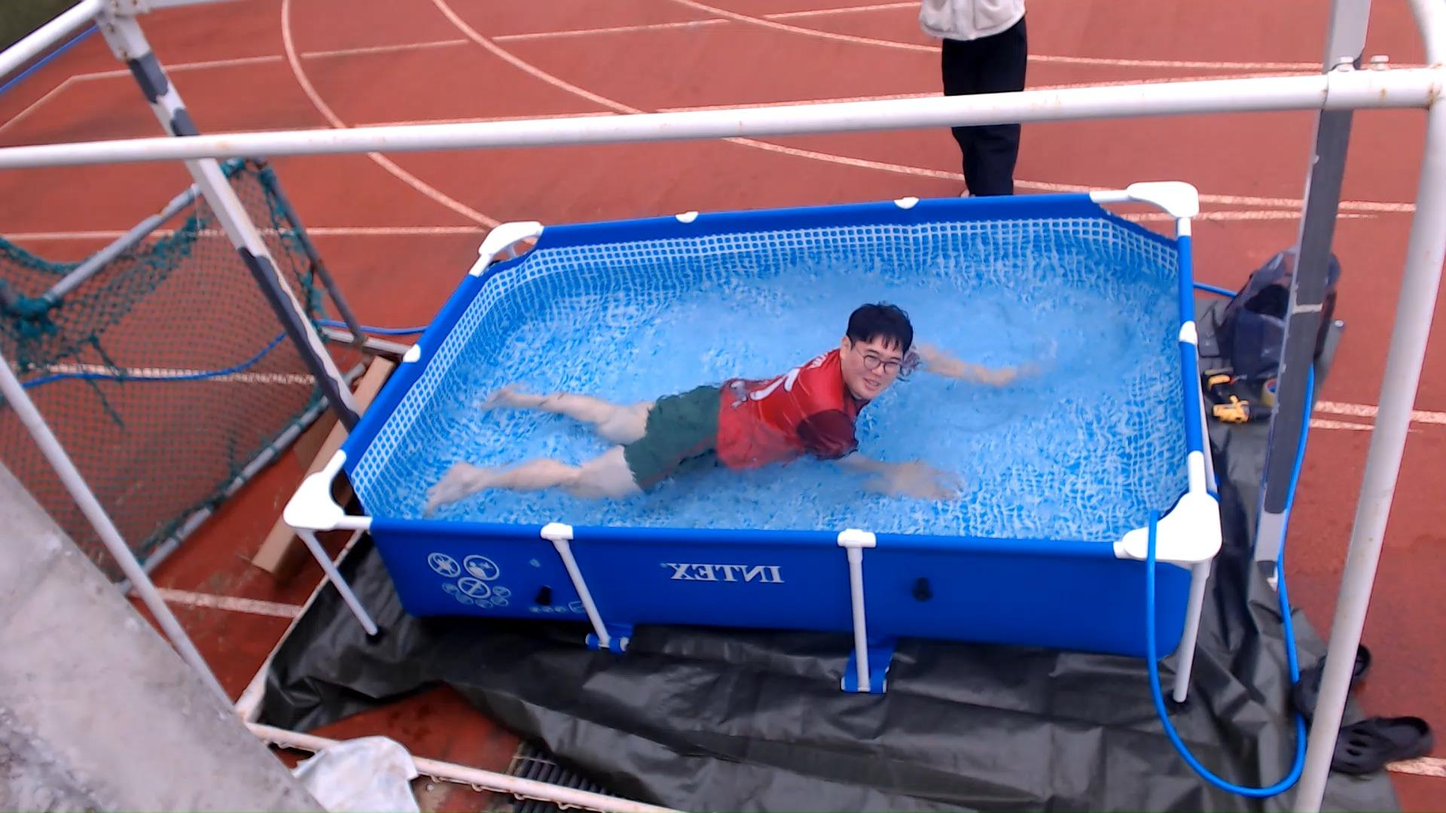Person-out-of-water: (888, 0, 1066, 214)
Swimming: (410, 288, 1086, 541)
